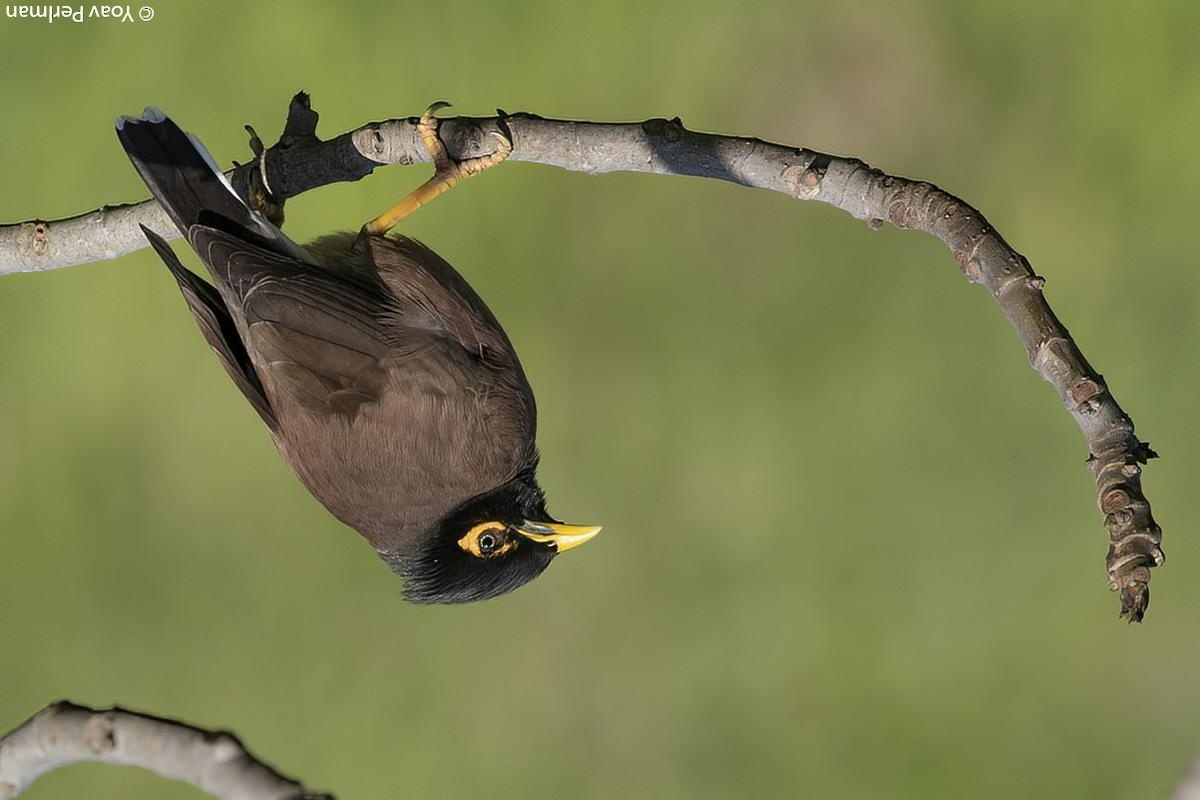myna: (126, 32, 626, 656)
